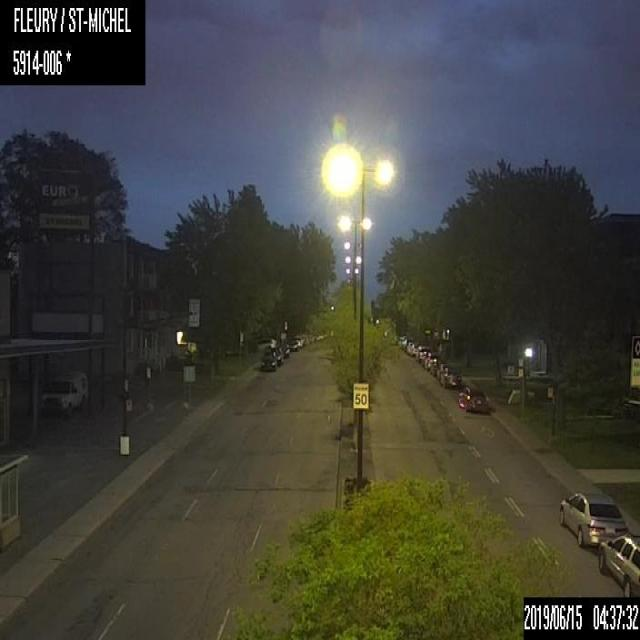vehicle: (556, 487, 630, 547), (594, 531, 639, 597), (40, 370, 90, 417), (458, 384, 491, 414), (440, 367, 462, 390), (258, 350, 277, 373), (268, 345, 282, 366), (436, 360, 450, 380), (416, 344, 430, 363), (424, 356, 436, 371), (429, 362, 438, 376)
